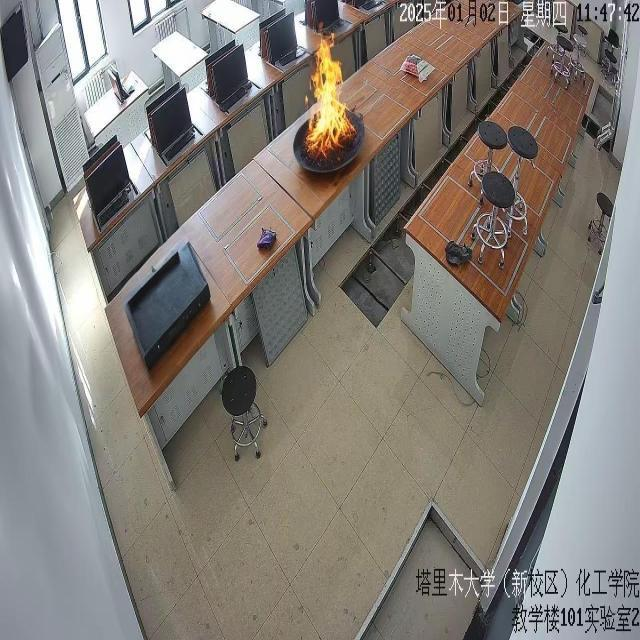smoke: (306, 31, 352, 158)
